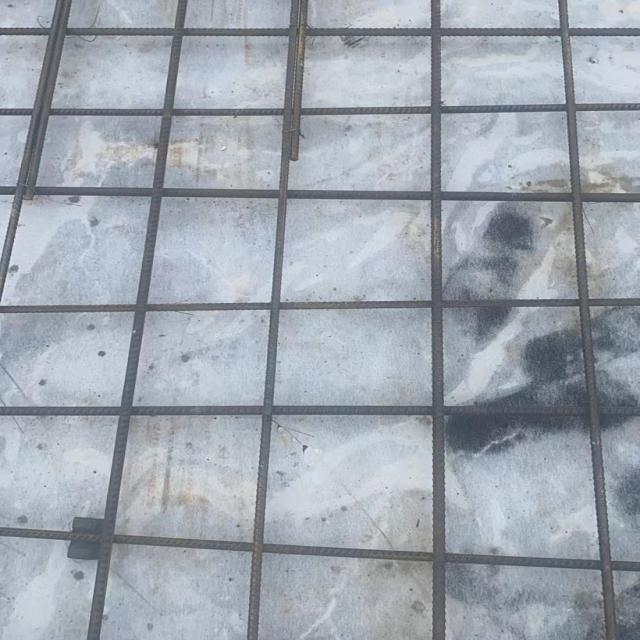ribbed bar: (81, 0, 189, 639), (244, 0, 308, 639), (554, 0, 616, 639), (0, 524, 638, 572), (0, 0, 72, 302), (0, 183, 638, 202), (0, 295, 638, 314), (0, 99, 638, 115), (428, 0, 443, 639), (0, 404, 638, 416), (0, 25, 638, 36)
